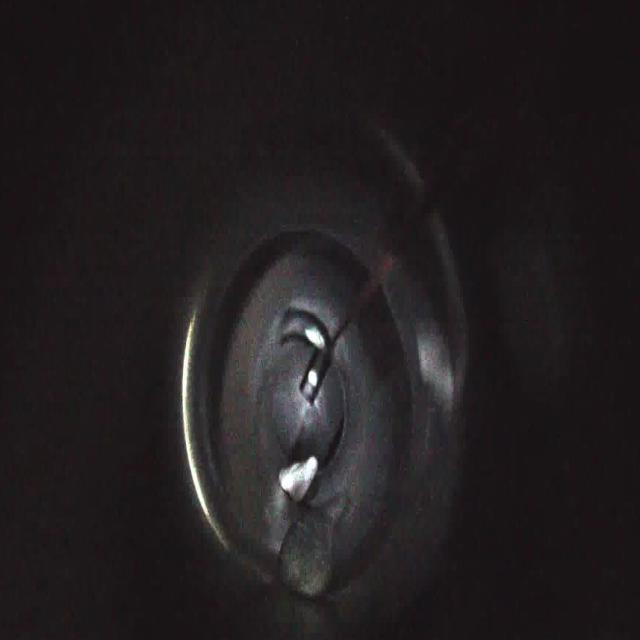impurity: (278, 509, 336, 599), (277, 450, 319, 502)
